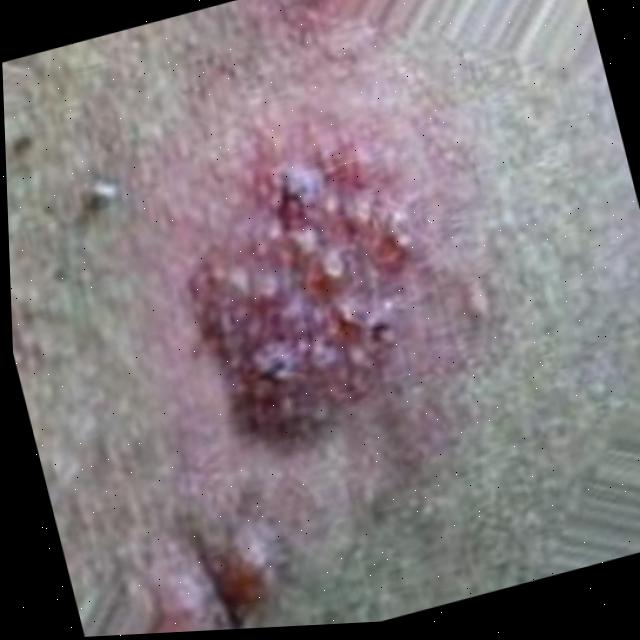Shingles: (149, 102, 481, 467)
